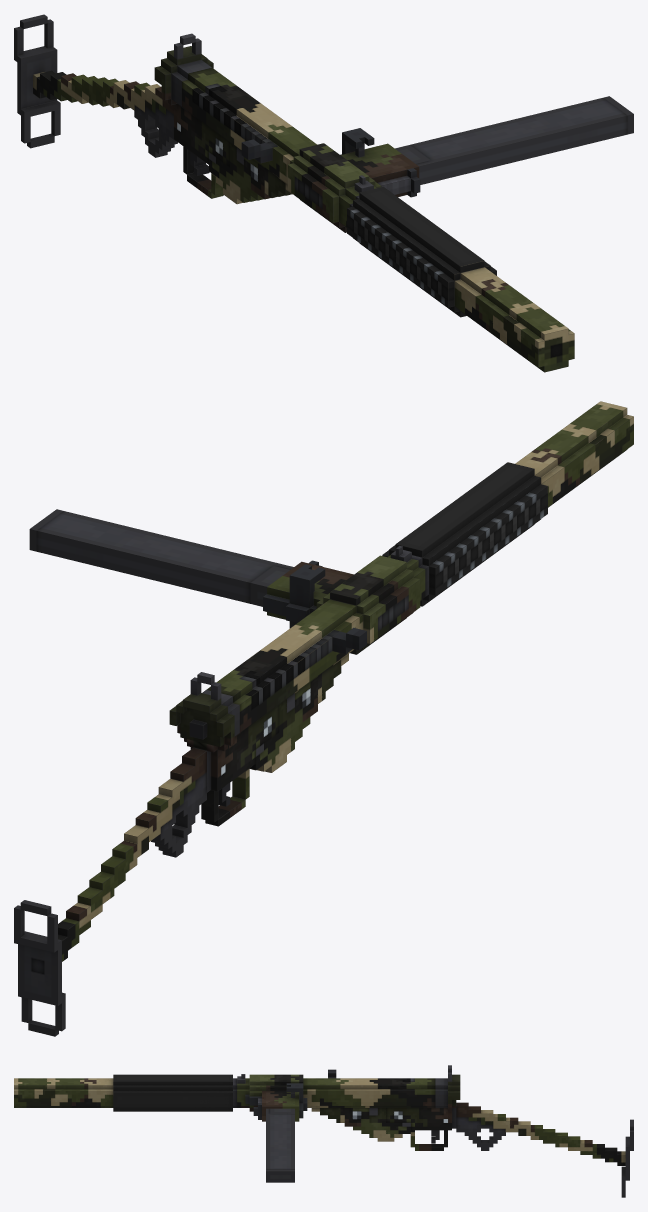
Rendered from RD_STEN_MK2_MILITARY1945.glb.
3 views of the same model, one above another, from view 1: azimuth 30°, elevation 25°; view 2: azimuth 150°, elevation 25°; view 3: azimuth 270°, elevation 25° (orthographic). The views are drawn at different scales.
Parts seen in each view (by area): view 1: STEN_MK2, STEN_MK2_SILENCER, STEN_MK2_CLIP, STEN_MK2_BOLT; view 2: STEN_MK2, STEN_MK2_SILENCER, STEN_MK2_CLIP; view 3: STEN_MK2, STEN_MK2_SILENCER, STEN_MK2_CLIP.
Part boxes in pixels (left/top/right/bottom): STEN_MK2: left=14, top=14, right=420, bottom=232; STEN_MK2_SILENCER: left=347, top=186, right=574, bottom=372; STEN_MK2_CLIP: left=395, top=96, right=633, bottom=184; STEN_MK2_BOLT: left=241, top=139, right=272, bottom=163; STEN_MK2: left=14, top=545, right=428, bottom=1036; STEN_MK2_SILENCER: left=382, top=401, right=633, bottom=606; STEN_MK2_CLIP: left=29, top=509, right=293, bottom=606; STEN_MK2: left=233, top=1065, right=633, bottom=1197; STEN_MK2_SILENCER: left=14, top=1074, right=232, bottom=1111; STEN_MK2_CLIP: left=266, top=1108, right=294, bottom=1182.
Size of the model in its own units: 0.5413 by 0.3346 by 1.48.
Materials: 1 (1 with a texture image).
